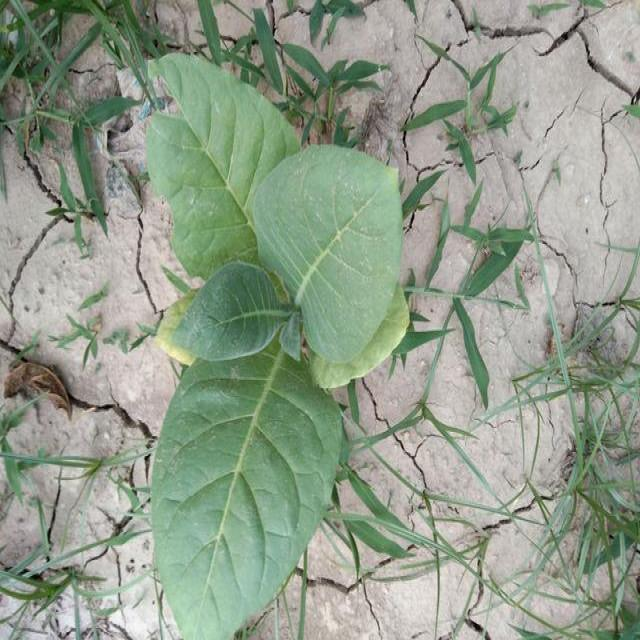crop: (128, 55, 402, 640)
